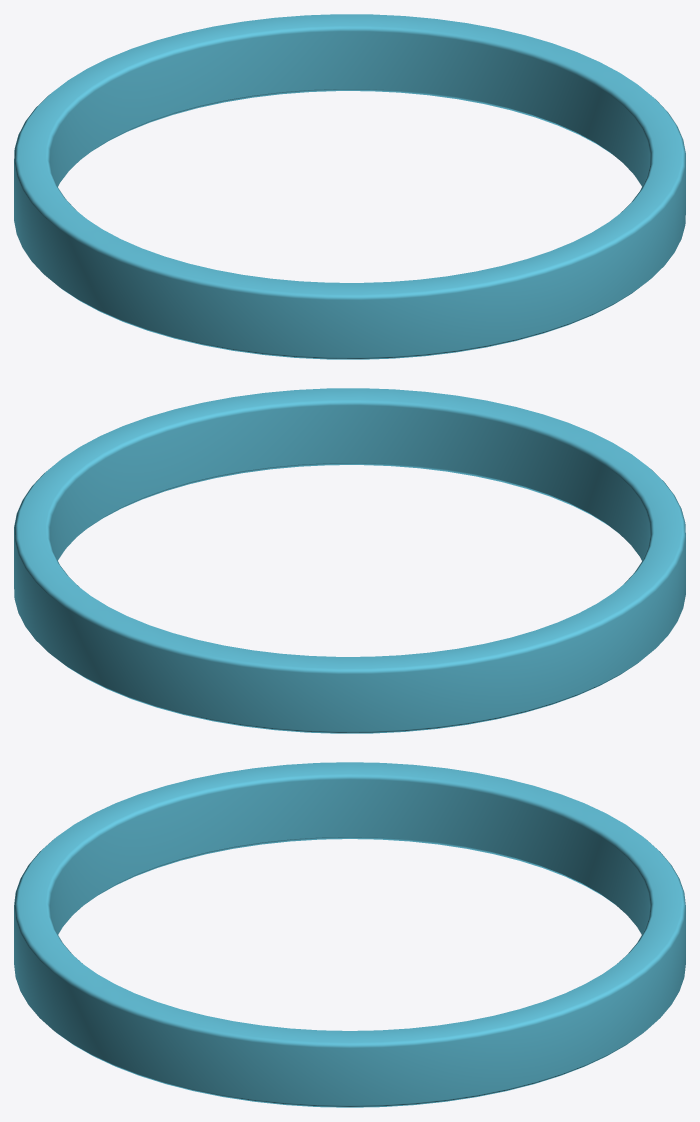
The picture shows the model from 3 angles, top to bottom: view 1: azimuth 30°, elevation 25°; view 2: azimuth 150°, elevation 25°; view 3: azimuth 270°, elevation 25°; orthographic projection.
Visible parts, largest first — view 1: seal_body; view 2: seal_body; view 3: seal_body.
Boxes of the visible parts, x1,y1,x2,y2 form: seal_body: (14,14,685,359); seal_body: (14,388,685,733); seal_body: (14,762,685,1107).
Bounding box in the file's own units: 0.0889 × 0.00952 × 0.0889.
